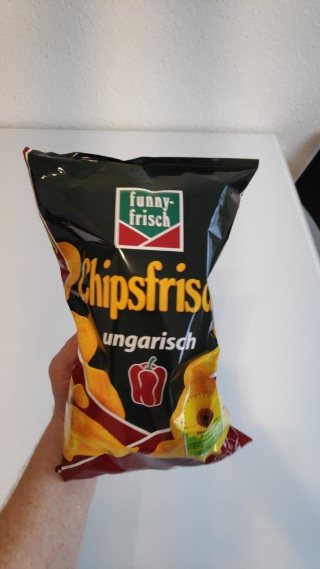chipsfrisch: (21, 145, 260, 482)
